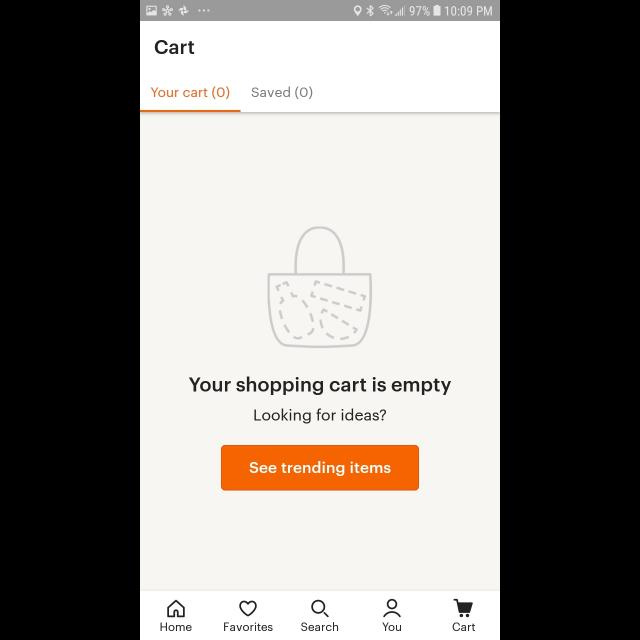icon: (453, 598, 473, 618), (383, 598, 401, 618), (167, 599, 185, 617), (311, 599, 329, 617), (239, 601, 257, 617)
image: (268, 227, 372, 349)
text: (189, 376, 451, 396), (254, 408, 386, 424), (150, 86, 230, 100), (252, 86, 312, 100), (155, 40, 195, 56), (224, 622, 272, 632), (301, 621, 339, 631), (162, 622, 192, 632), (452, 622, 476, 632), (382, 622, 402, 632)
textbutton: (221, 445, 419, 491)
uppertaskbar: (140, 1, 500, 22)
